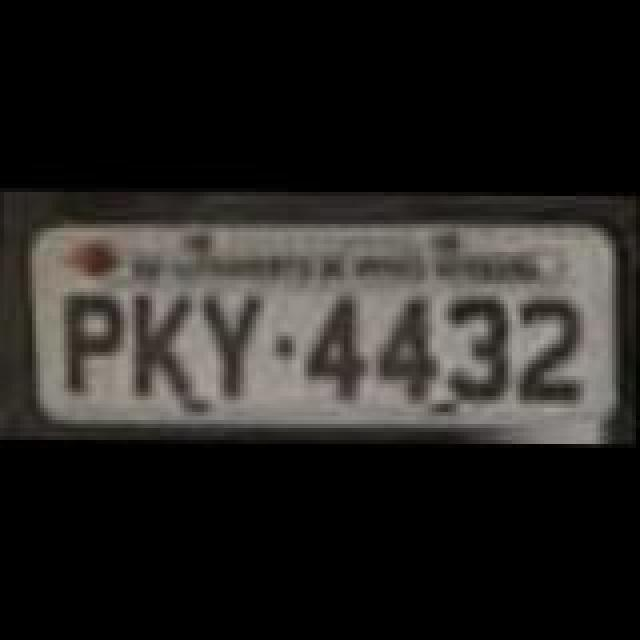2: (510, 296, 590, 408)
3: (442, 298, 514, 406)
4: (298, 288, 370, 404), (372, 292, 440, 412)
K: (128, 292, 196, 408)
P: (60, 290, 120, 406)
Y: (202, 294, 258, 402)
